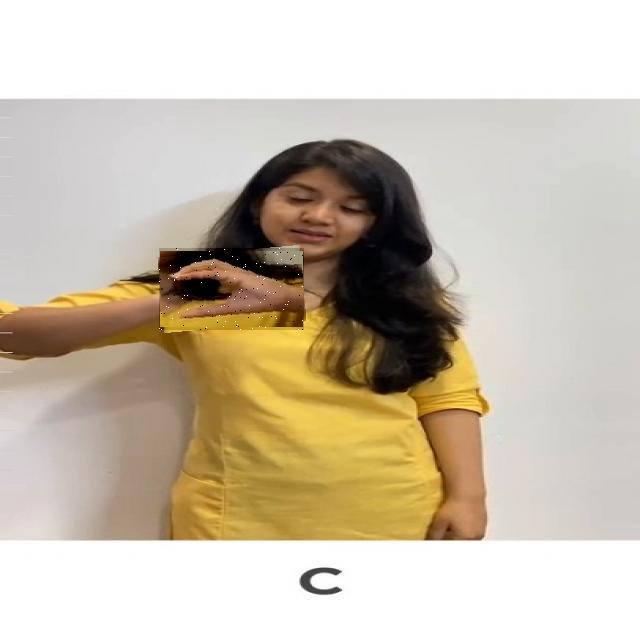C: (159, 248, 304, 330)
